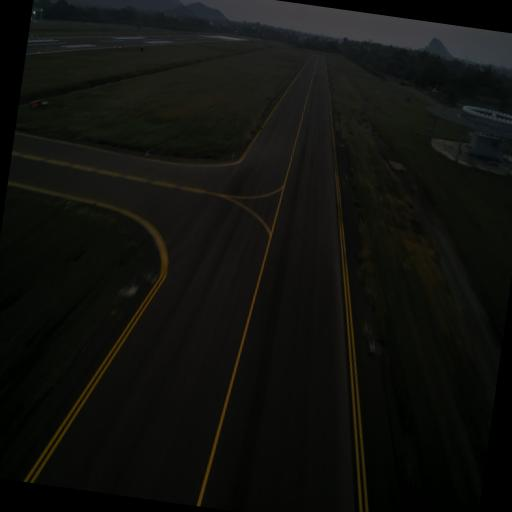on: (128, 279, 138, 295), (66, 196, 72, 210), (369, 339, 376, 351), (144, 146, 150, 158), (344, 172, 349, 182), (231, 151, 235, 158)
